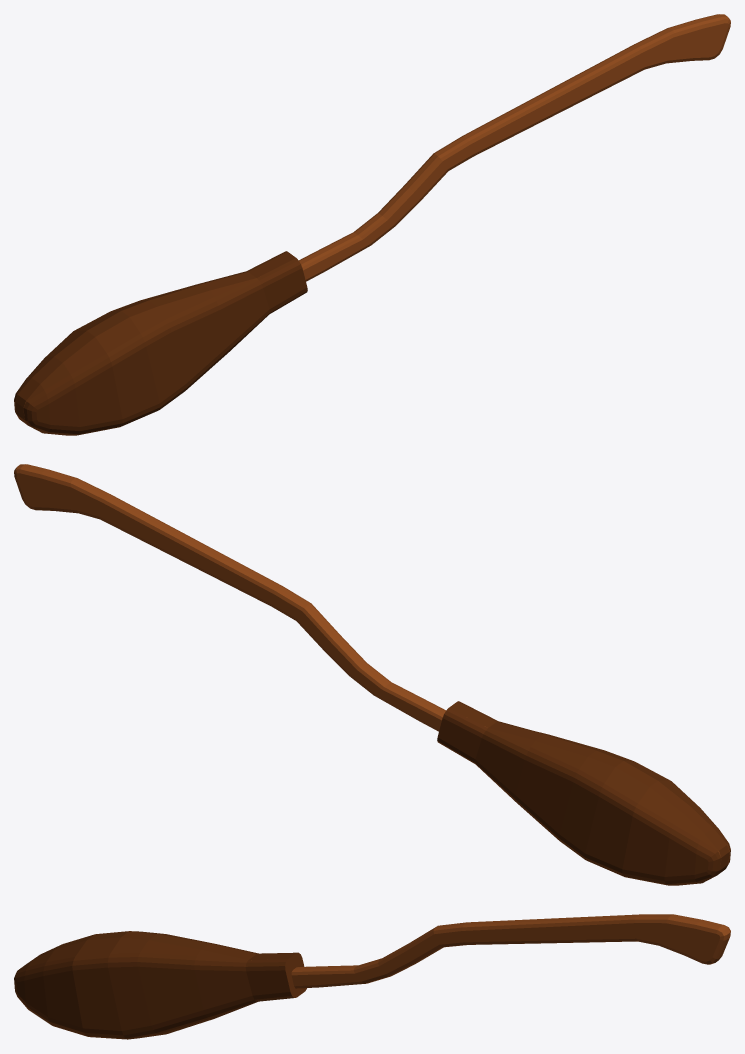
The model's file is broom2.fbx.
3 views of the same model, one above another, from view 1: azimuth 30°, elevation 25°; view 2: azimuth 150°, elevation 25°; view 3: azimuth 330°, elevation 25° (orthographic).
Parts seen in each view (by area): view 1: Plane; view 2: Plane; view 3: Plane.
Part boxes in pixels (bbox=[...]): Plane: bbox=[14, 14, 730, 435]; Plane: bbox=[14, 464, 730, 885]; Plane: bbox=[14, 914, 730, 1039].
Size of the model in its own units: 967 by 336 by 94.
